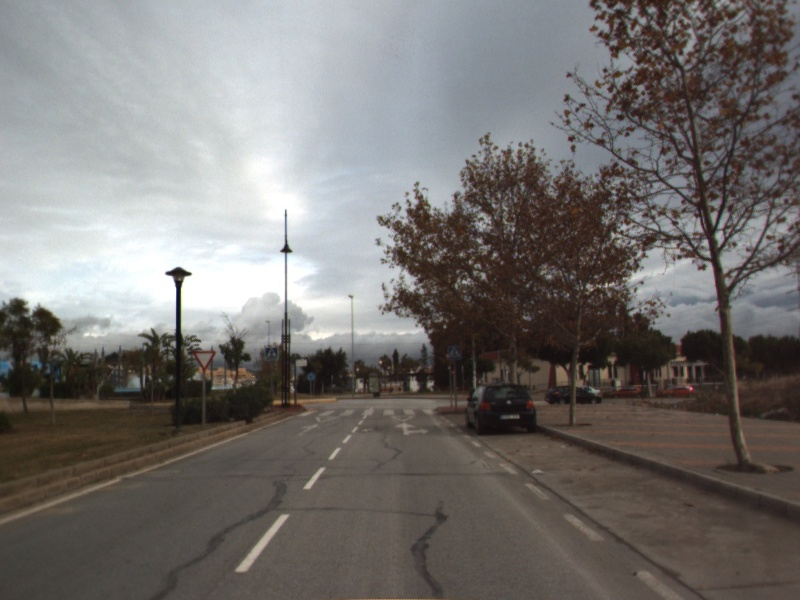STRAIGHT: (295, 421, 323, 438)
STRAIGHT_RIGHT: (392, 420, 431, 437)
